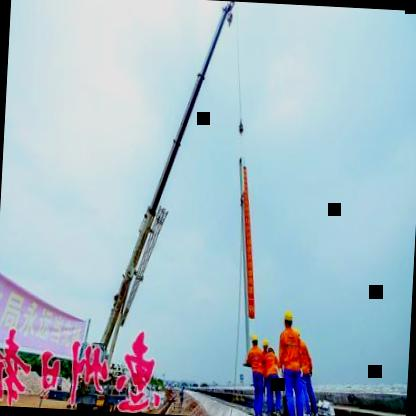helmet: (282, 308, 294, 332), (260, 336, 270, 355), (250, 333, 260, 351)
